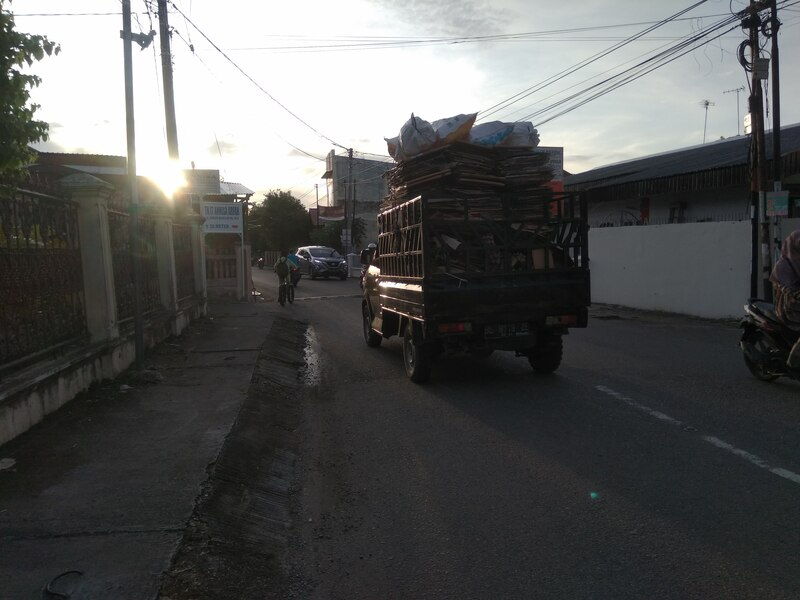bike: (275, 268, 302, 311)
car: (358, 190, 593, 400), (293, 241, 353, 290)
motorcycle: (737, 284, 800, 388)
